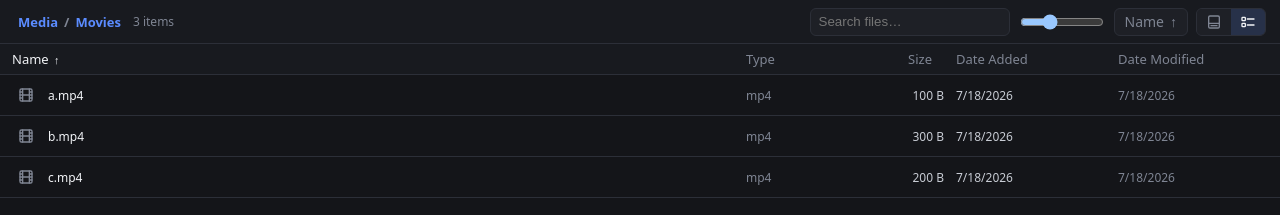
Test case: the toolbar sort control and the headers are one preference
Click the button with aria-label "Sort by Date Modified" at [1167, 59], box [1118,50,1216,68]
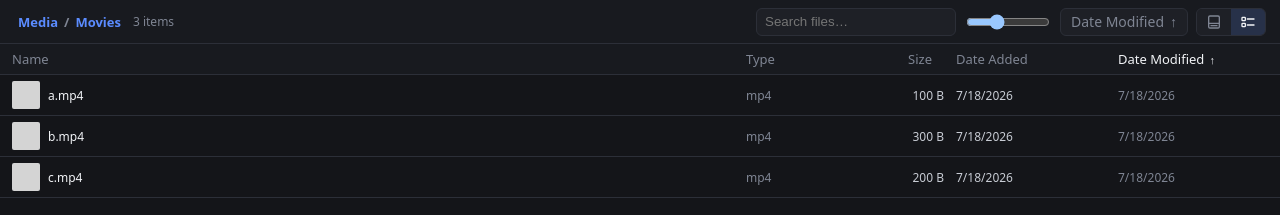
Check: the button with aria-label "Sort" shows "Date Modified", box [1060,8,1188,36]
